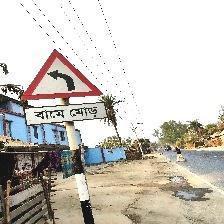Left-Turn: (20, 49, 106, 126)
